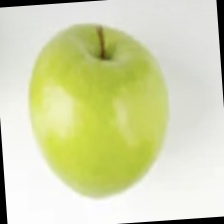apple: (54, 38, 190, 213)
